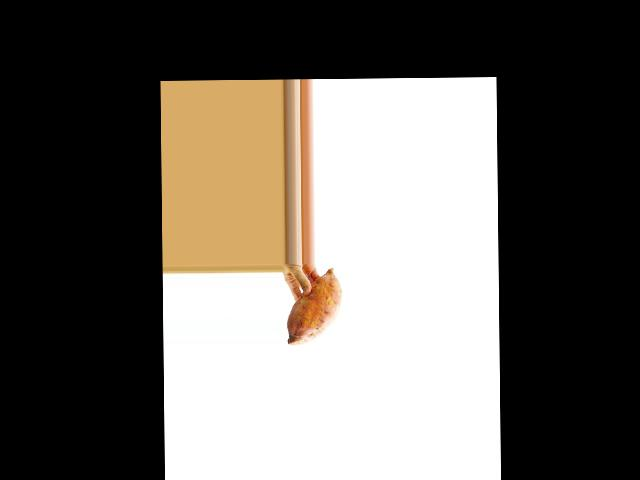sweet_potato: (284, 270, 347, 347)
